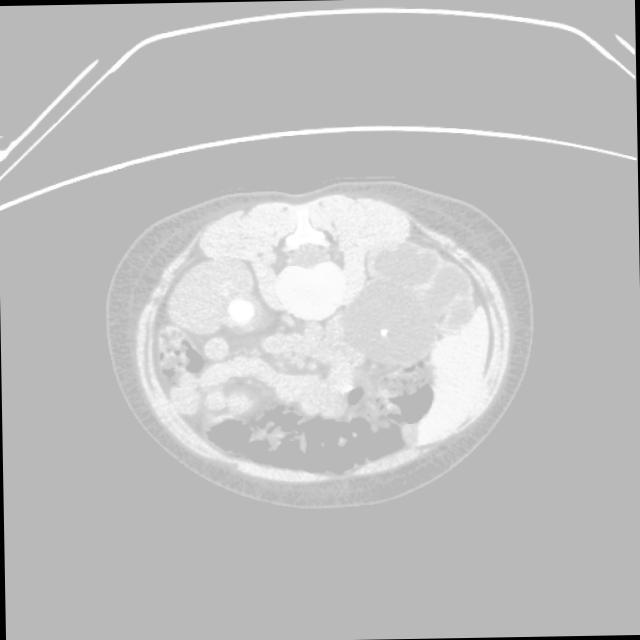STONE: (154, 317, 422, 507)
